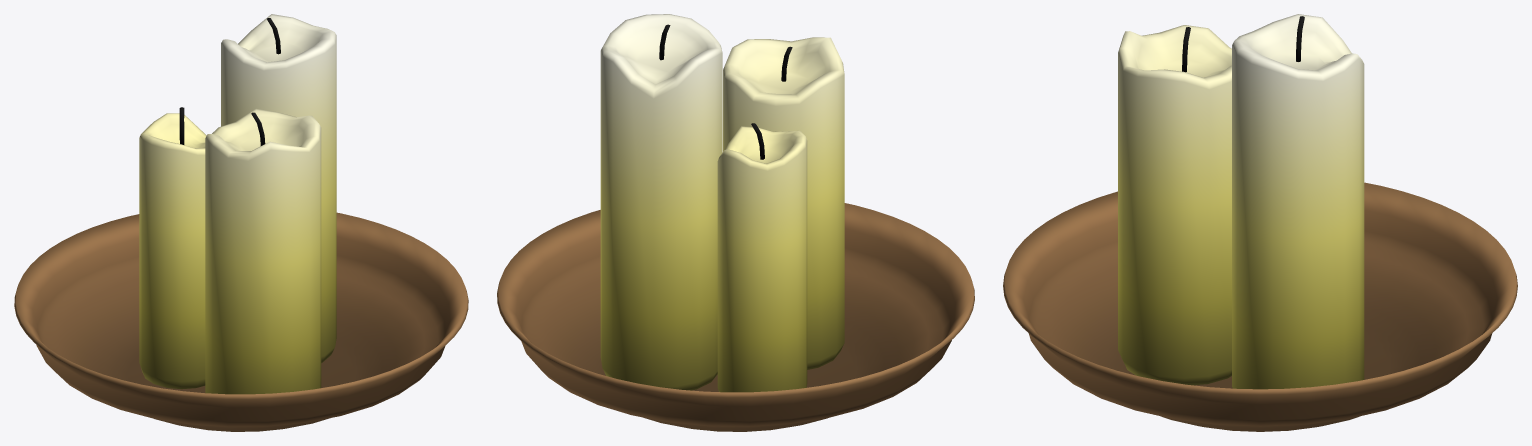
File: candles.gltf
3 renders of one model, left to right at view 1: azimuth 30°, elevation 25°; view 2: azimuth 150°, elevation 25°; view 3: azimuth 270°, elevation 25°, orthographic. The views are drawn at different scales.
Parts seen in each view (by area): view 1: candles, plate; view 2: candles, plate; view 3: candles, plate.
Boxes of the visible parts, left/top/right/bottom form: candles: left=139, top=14, right=336, bottom=394; plate: left=14, top=212, right=468, bottom=431; candles: left=600, top=14, right=844, bottom=392; plate: left=497, top=203, right=974, bottom=431; candles: left=1118, top=14, right=1364, bottom=389; plate: left=1003, top=182, right=1517, bottom=431.
Size of what is drawn, in the model's own units: 0.542 by 0.4432 by 0.542.
Materials: 1 (1 with a texture image).
